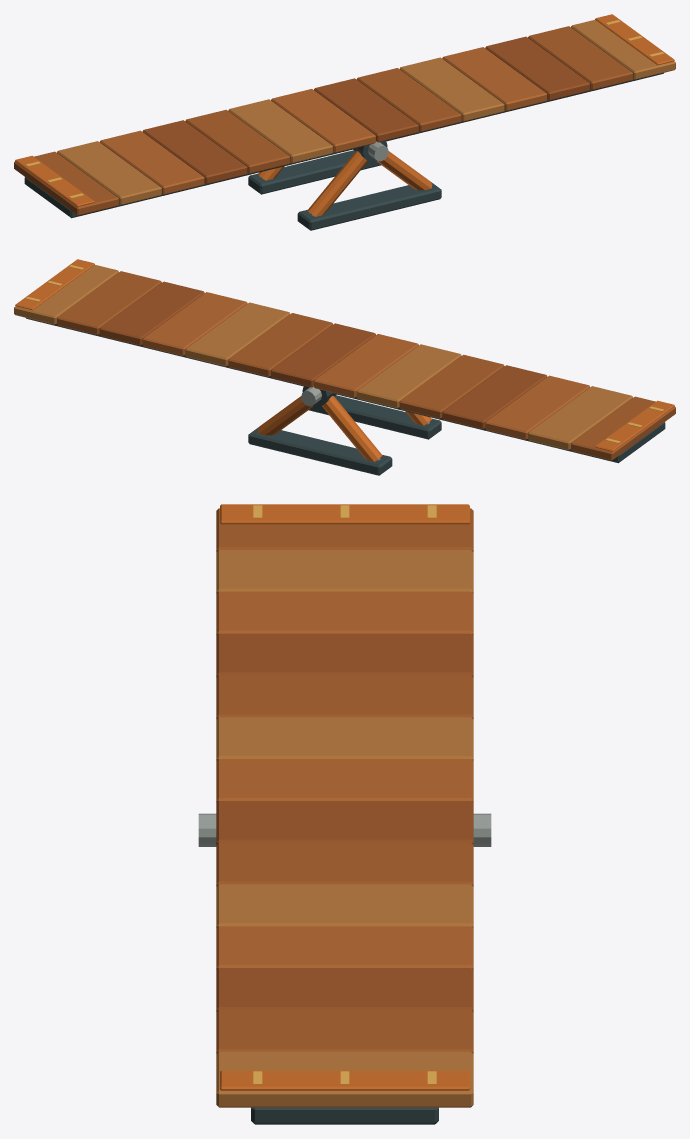
File: wsc-plan-003-hinged-seesaw.glb
The picture shows the model from 3 angles, top to bottom: view 1: azimuth 30°, elevation 25°; view 2: azimuth 150°, elevation 25°; view 3: azimuth 270°, elevation 25°; orthographic projection. The views are drawn at different scales.
Parts seen in each view (by area): view 1: Hinged_Deck, Fixed_Base; view 2: Hinged_Deck, Fixed_Base; view 3: Hinged_Deck, Fixed_Base.
Boxes of the visible parts, x1,y1,x2,y2 form: Hinged_Deck: (14, 14, 675, 218); Fixed_Base: (248, 140, 441, 230); Hinged_Deck: (14, 259, 675, 463); Fixed_Base: (248, 385, 441, 475); Hinged_Deck: (216, 504, 473, 1124); Fixed_Base: (198, 813, 491, 846).
Bounding box in the file's own units: 13.98 × 1.87 × 2.96.
